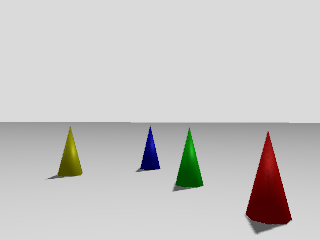blue: (138, 124, 160, 172)
green: (174, 127, 203, 188)
red: (244, 129, 292, 225)
yellow: (56, 125, 84, 178)
